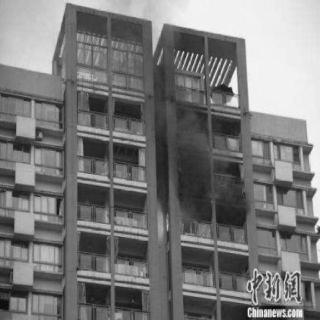Fire: (158, 192, 200, 238)
